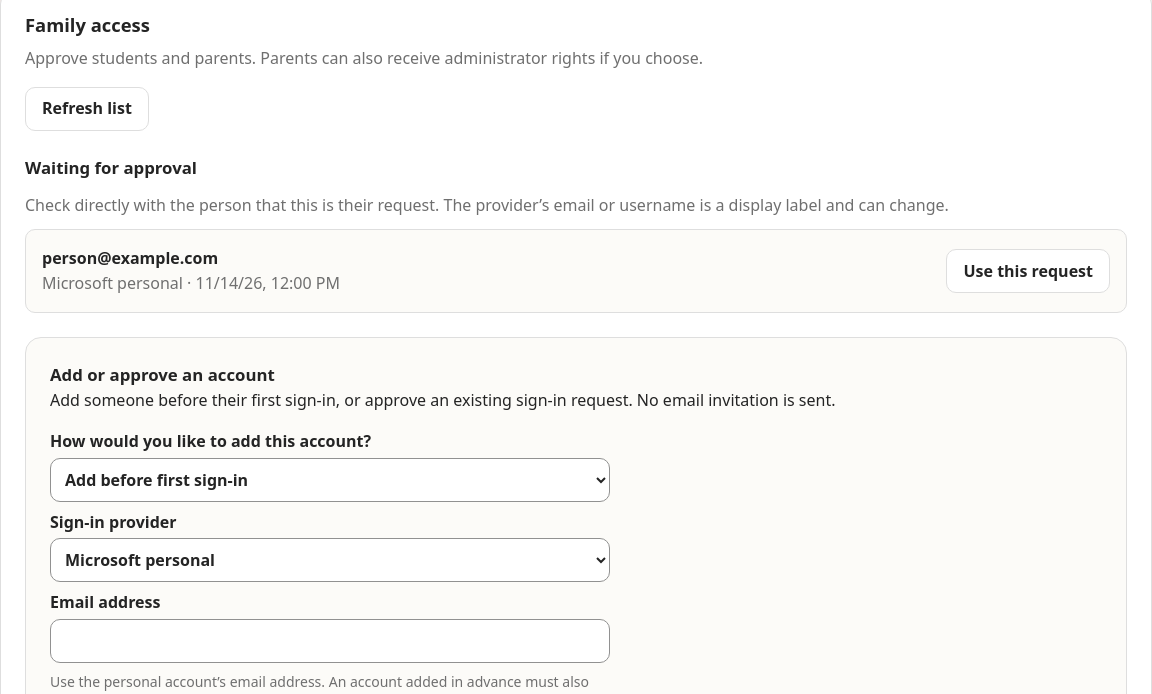
Test: blocks changes after an uncertain mutation until a complete successful refresh
What coordinates should you click on to do the following:
click the button with aria-label "Use this request: person@example.com"
I would click on:
 (1028, 271)
Its box is x1=946 y1=249 x2=1110 y2=293.
(page scrolled)
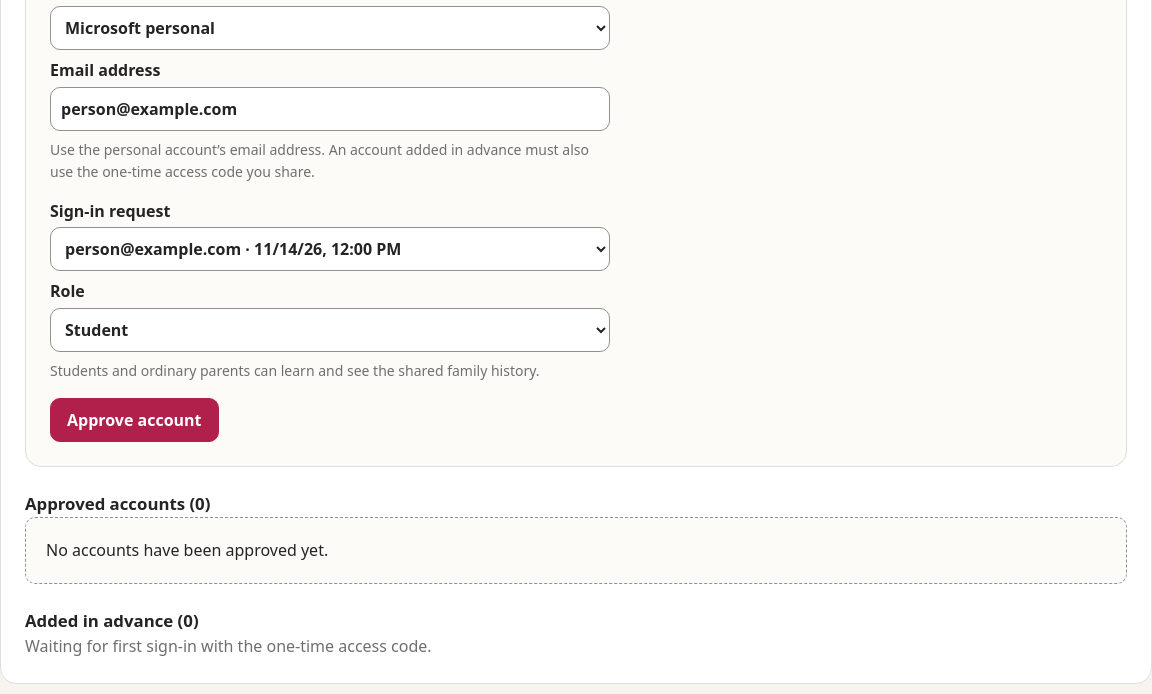
What coordinates should you click on to do the following:
click the button "Approve account"
I would click on:
 (134, 420)
Its box is x1=50 y1=398 x2=218 y2=442.
(page scrolled)
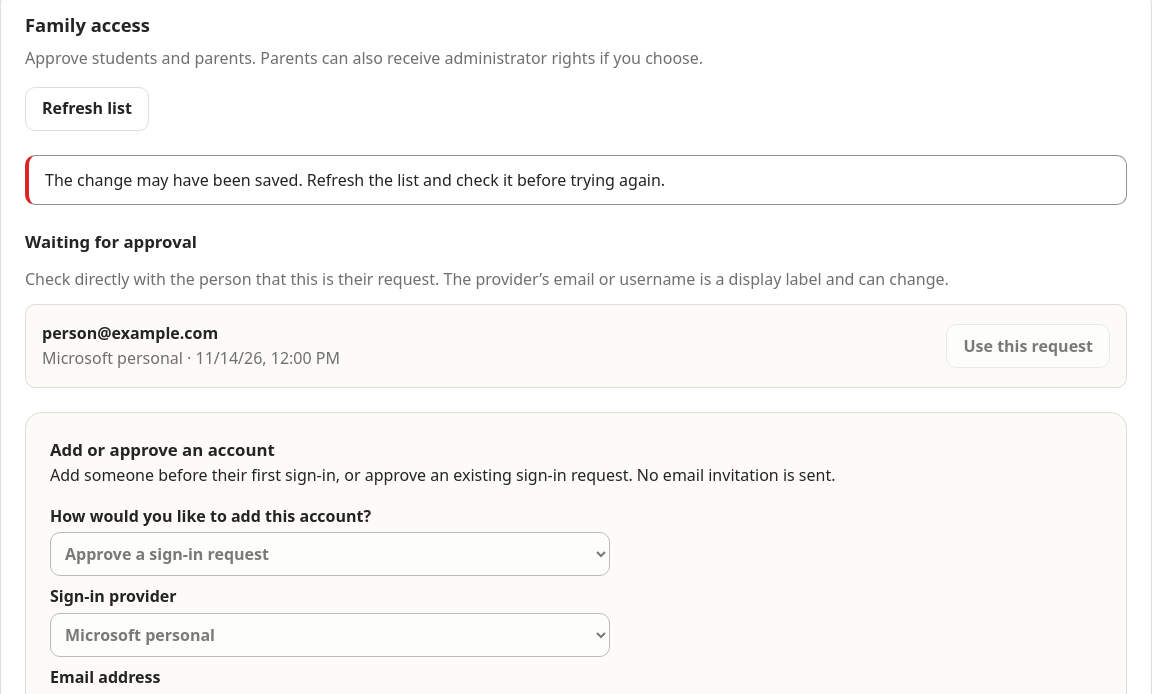
Check: the message shows "The change may have been saved", box x1=45 y1=169 x2=665 y2=191
What coordinates should you click on to do the following:
click the button "Refresh list"
I would click on:
 (87, 109)
Its box is x1=25 y1=87 x2=149 y2=131.
(page scrolled)
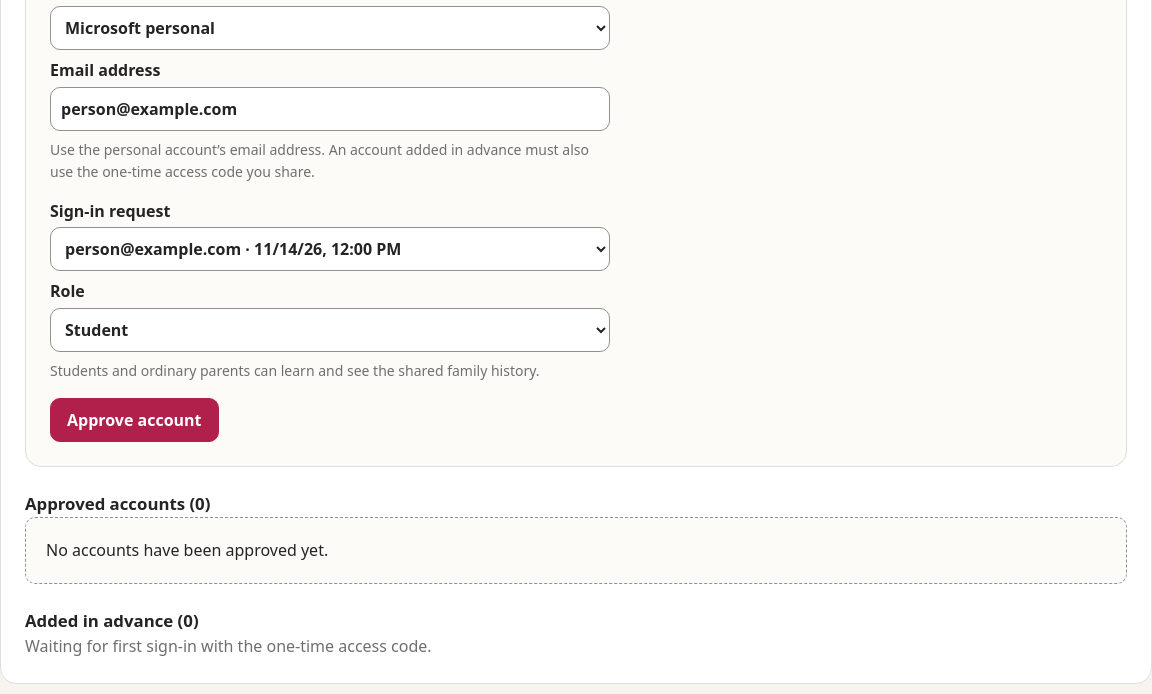
Check: the button "Approve account" is enabled, box x1=50 y1=398 x2=218 y2=442
